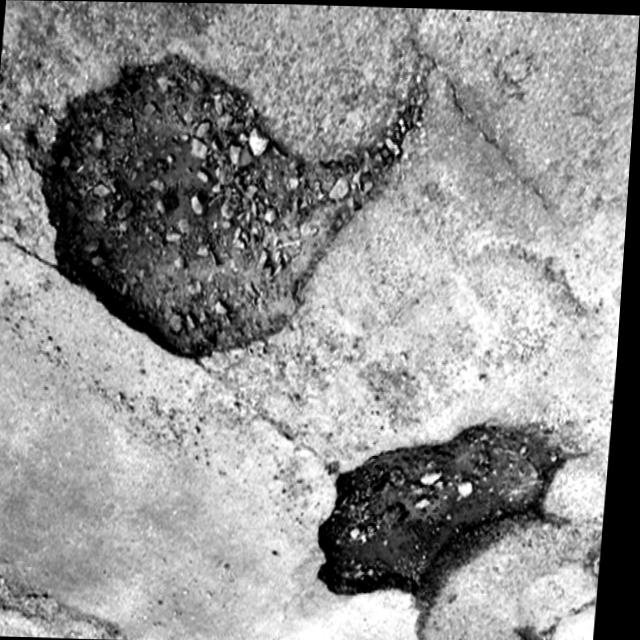pathole: (2, 35, 419, 423), (245, 399, 618, 640)
